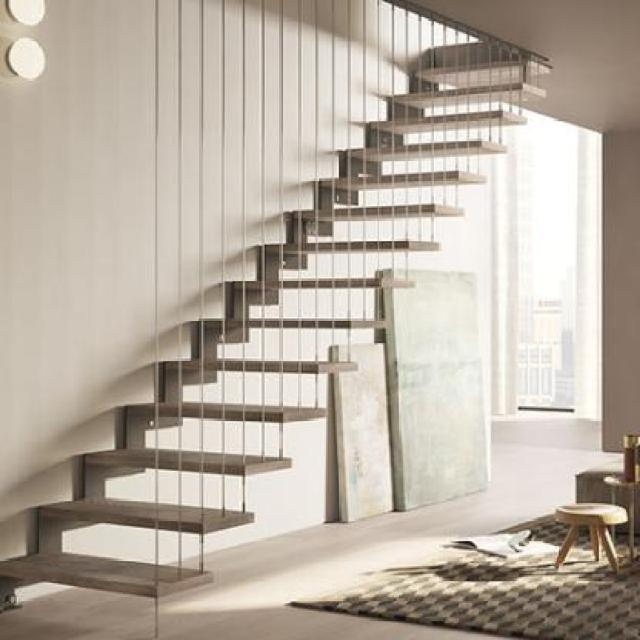stair: (2, 27, 552, 638)
